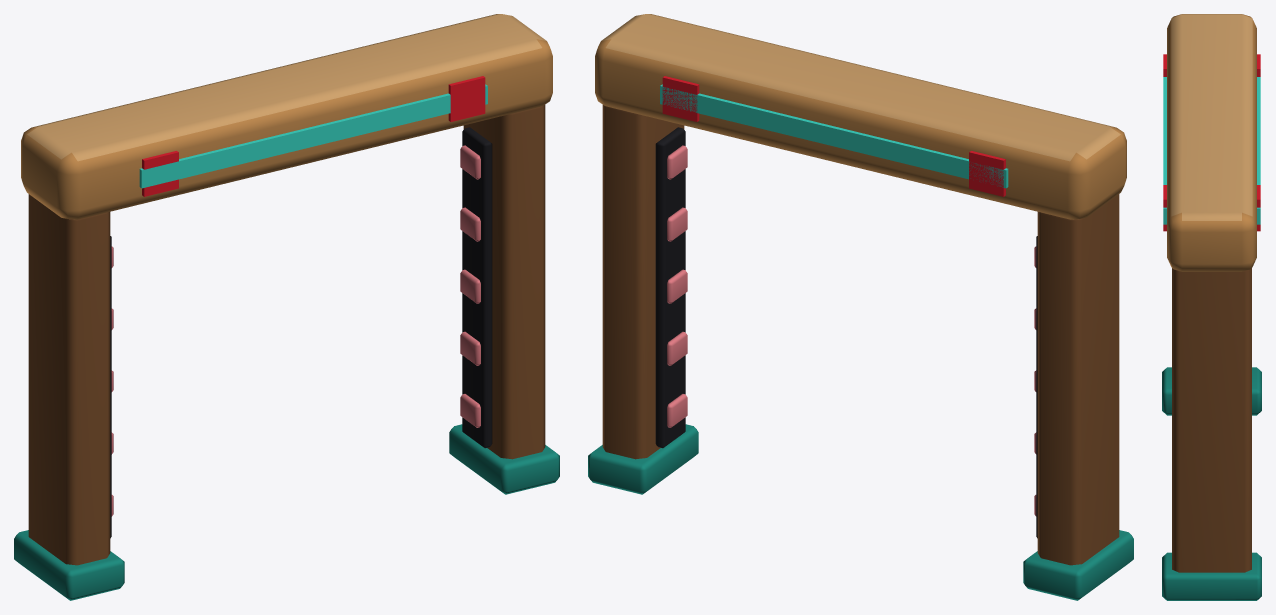
Rendered from tropic-gateframe.glb.
The picture shows the model from 3 angles, left to right: view 1: azimuth 30°, elevation 25°; view 2: azimuth 150°, elevation 25°; view 3: azimuth 270°, elevation 25°; orthographic projection. The views are drawn at different scales.
Visible parts, largest first — view 1: tropic-gateframe; view 2: tropic-gateframe; view 3: tropic-gateframe.
Boxes of the visible parts, x1,y1,x2,y2 form: tropic-gateframe: (14,14,559,600); tropic-gateframe: (588,14,1133,600); tropic-gateframe: (1162,14,1261,600).
Bounding box in the file's own units: 2 × 1.7 × 0.4.
